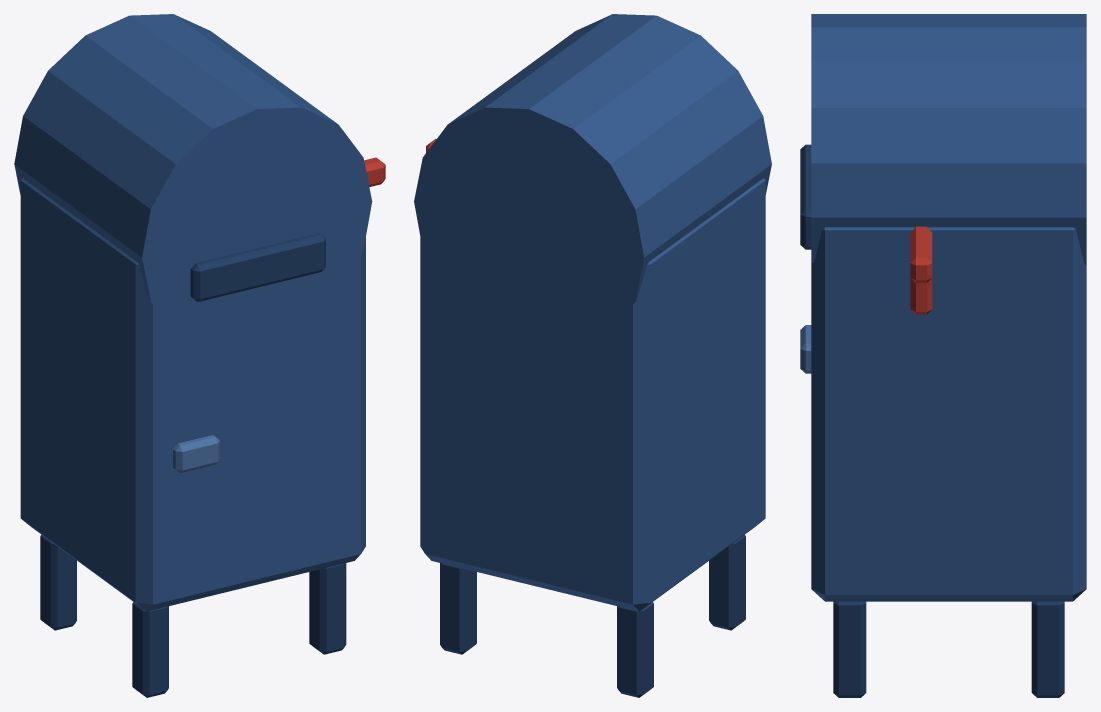
File: mailbox.glb
3 views of the same model, side by side, from view 1: azimuth 30°, elevation 25°; view 2: azimuth 150°, elevation 25°; view 3: azimuth 270°, elevation 25° (orthographic). The views are drawn at different scales.
Visible parts, largest first — view 1: mailbox; view 2: mailbox; view 3: mailbox.
Part boxes in pixels (box(x1,y1,x2,y2)): mailbox: box(14, 14, 385, 697); mailbox: box(414, 14, 771, 697); mailbox: box(800, 14, 1086, 697).
Bounding box in the file's own units: 0.66 × 1.24 × 0.52.
